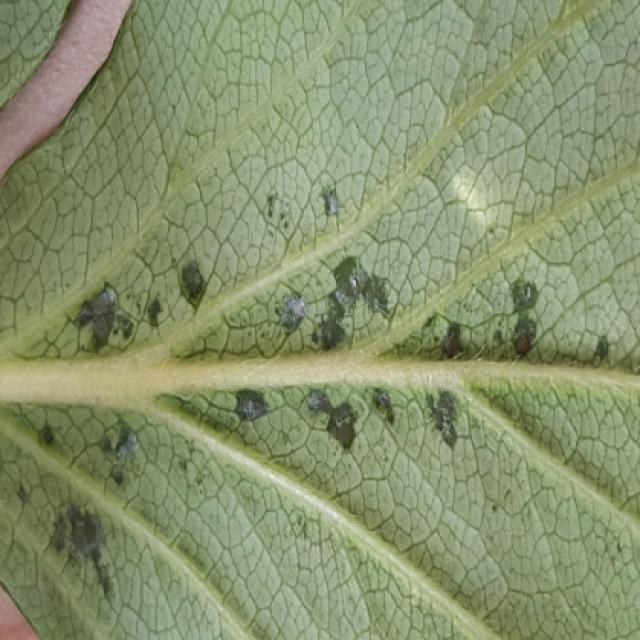Angular Leafspot: (3, 167, 627, 616)
